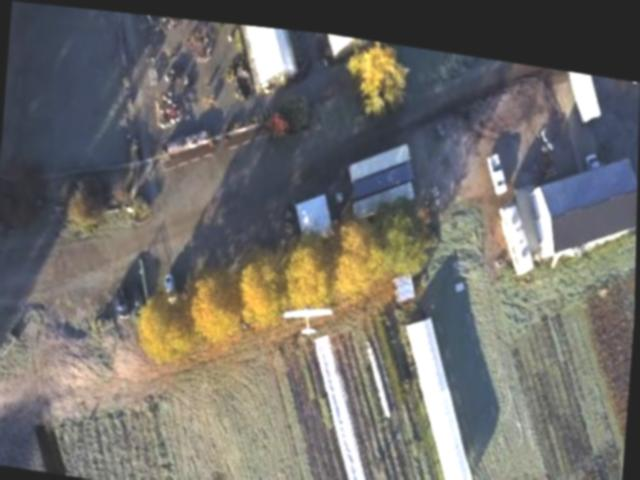uav: (277, 281, 345, 338)
